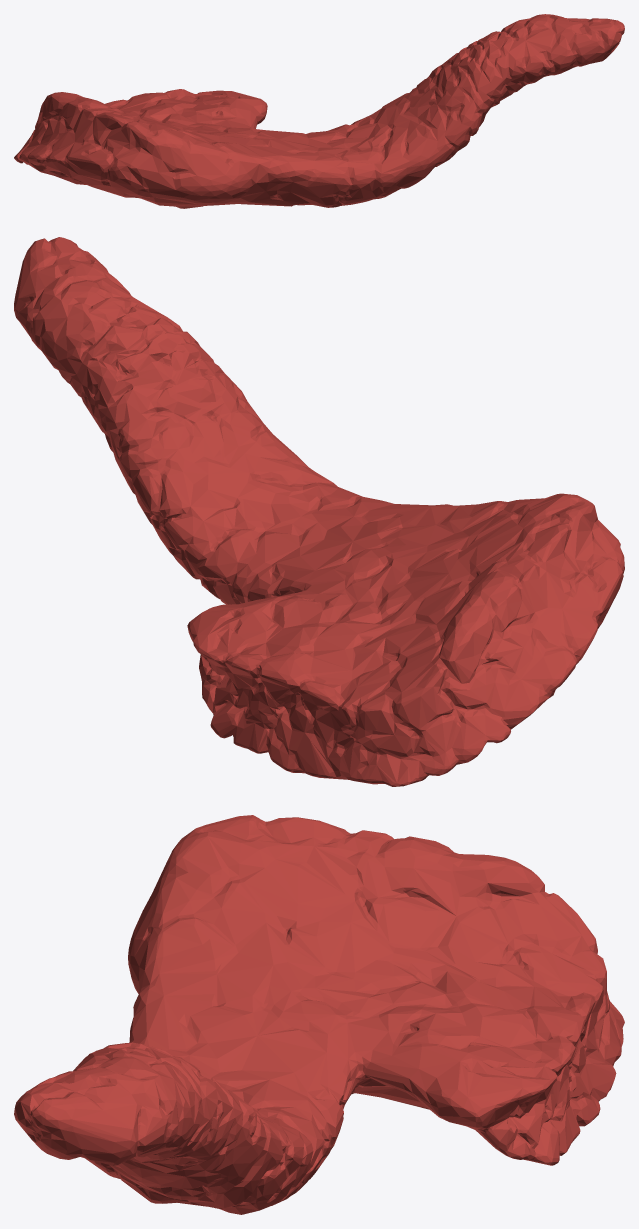
Rendered from pancreas.glb.
3 views of the same model, one above another, from view 1: azimuth 30°, elevation 25°; view 2: azimuth 150°, elevation 25°; view 3: azimuth 270°, elevation 25° (orthographic). The views are drawn at different scales.
Bounding box in the file's own units: 113 × 39.14 × 72.34.
